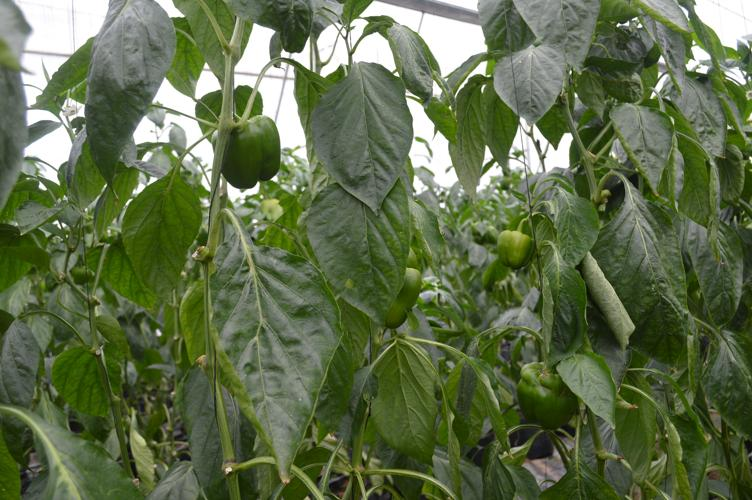BellPepper: (209, 112, 296, 201), (509, 362, 587, 443), (370, 258, 431, 338), (484, 218, 543, 276)
